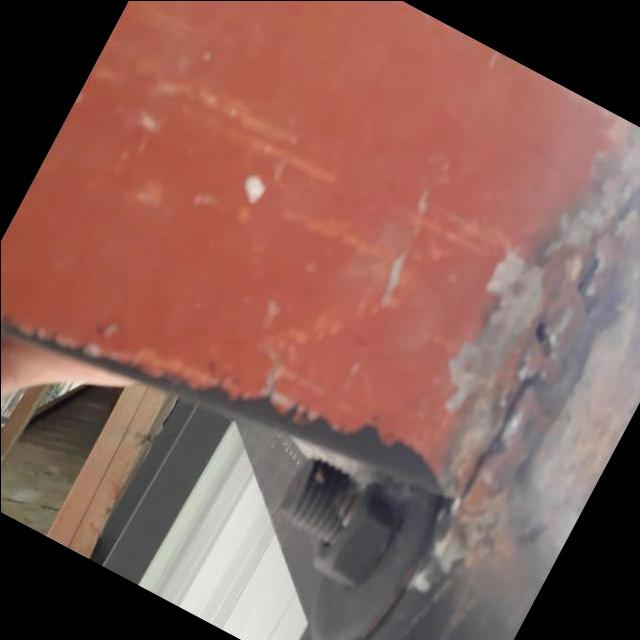defect: (452, 316, 558, 505), (572, 241, 604, 328)
